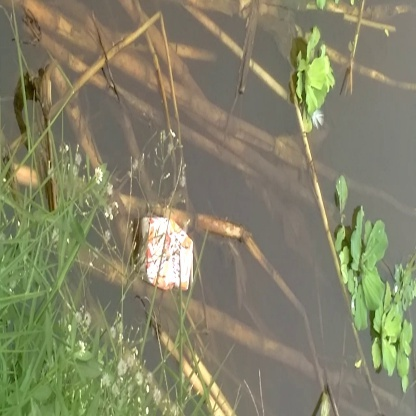milk-box: (136, 212, 203, 294)
